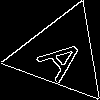A: (36, 29, 97, 85)
